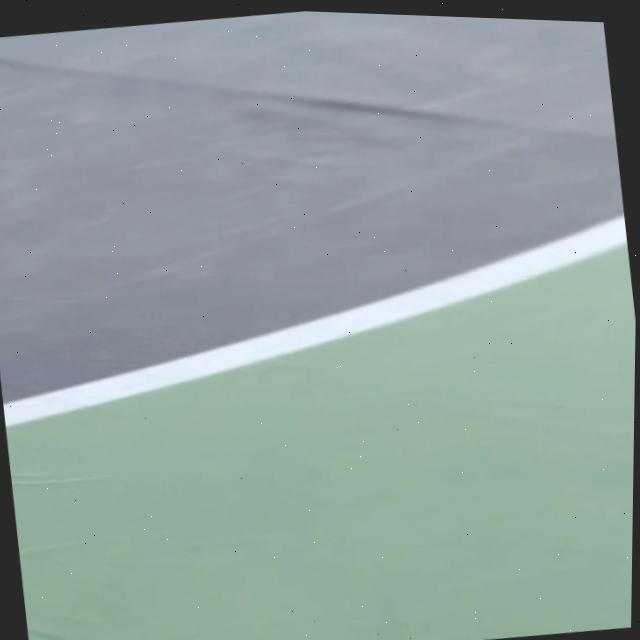right: (2, 215, 627, 425)
